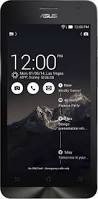asus: (1, 1, 98, 199)
